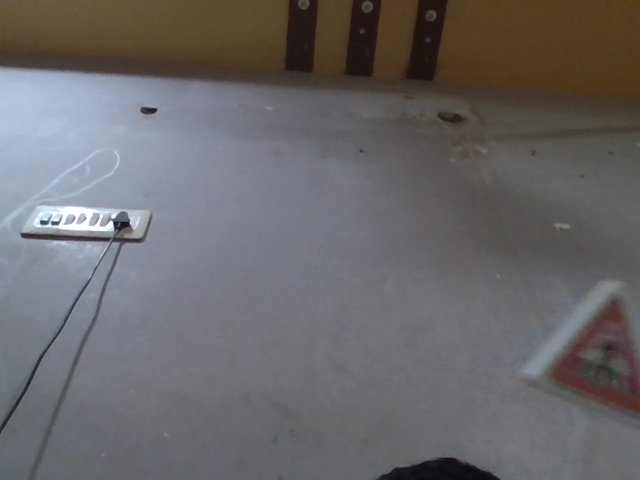crossing: (528, 273, 640, 412)
